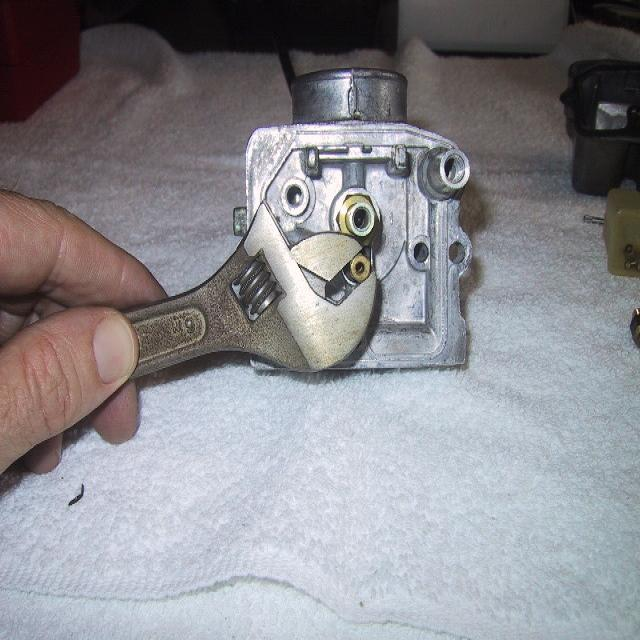wrench: (42, 197, 383, 385)
